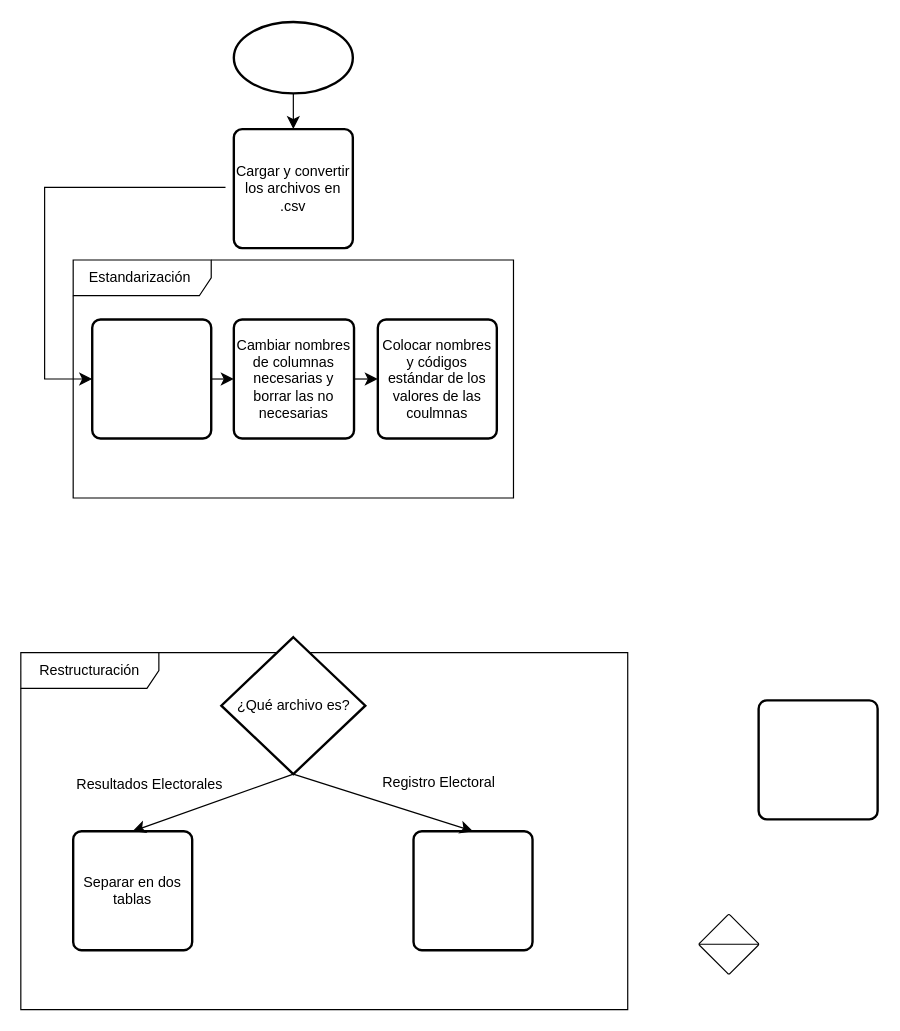
Image size: 900x1031. Some labels were removed from this diagram. The shapes that lost their labels are listed below. From the top down, each one's box as (x1, y1, x2, y2) in pixels, then its label:
(232, 20, 353, 94): Inicio
(90, 318, 212, 439): Colocar el nombre correcto para el archivo
(412, 829, 533, 951): Crear columnas de grupos de edad de electores y columna del total
